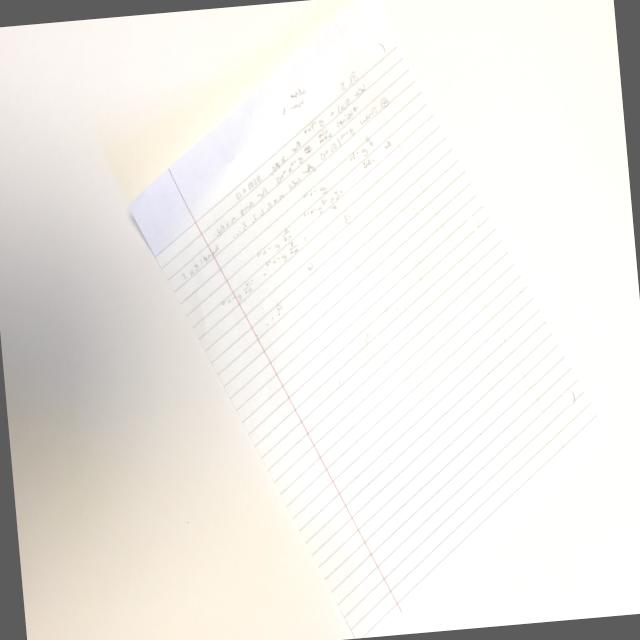Paper: (103, 0, 637, 640)
